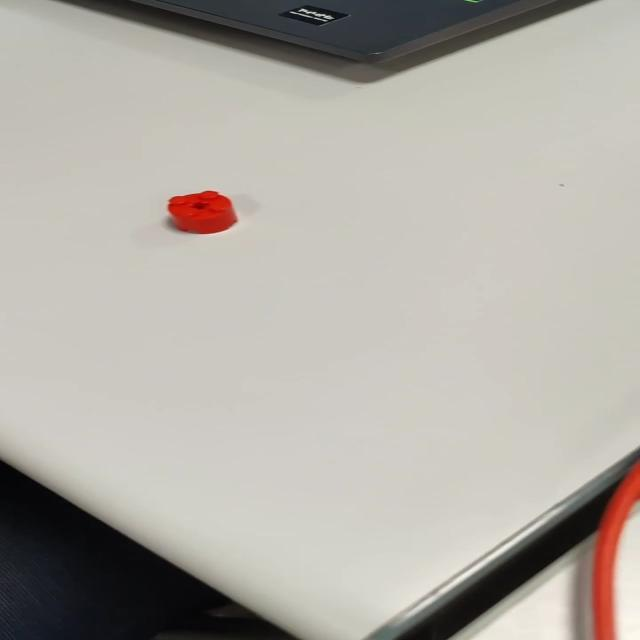S2x2x1: (143, 187, 260, 241)
